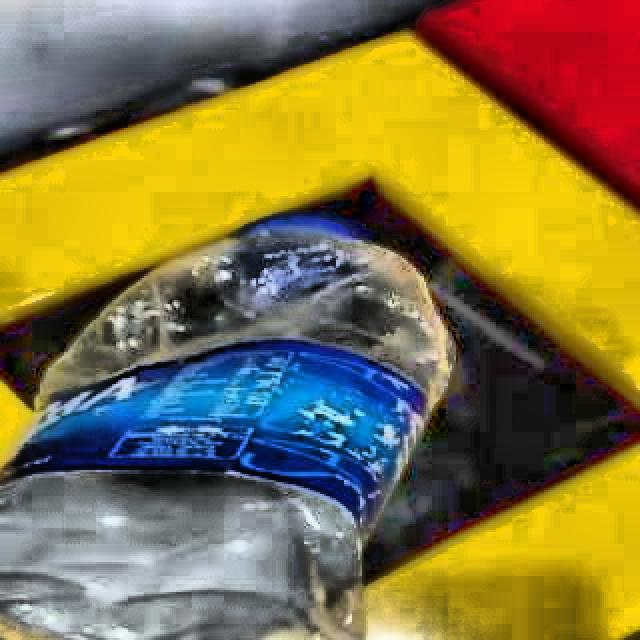plastic: (0, 215, 453, 640)
